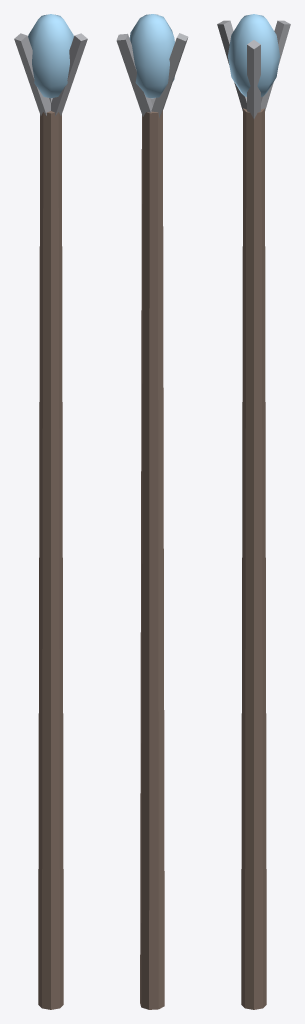
Rendered from Staff_Mage.gltf.
3 renders of one model, left to right at view 1: azimuth 90°, elevation 25°; view 2: azimuth 210°, elevation 25°; view 3: azimuth 270°, elevation 25°, orthographic.
Parts seen in each view (by area): view 1: Staff_Mage; view 2: Staff_Mage; view 3: Staff_Mage.
Part boxes in pixels (x1,y1,x2,y2): Staff_Mage: (14,14,87,1009); Staff_Mage: (116,14,188,1009); Staff_Mage: (217,14,290,1009).
Size of the model in its own units: 0.1164 by 1.88 by 0.127.
